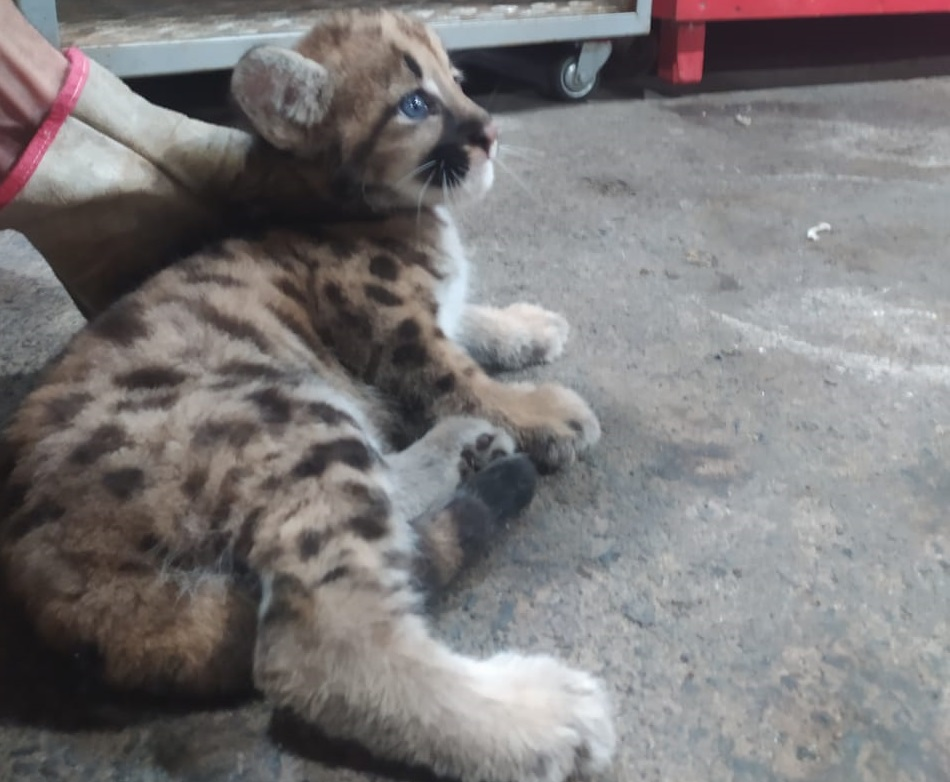OncaParda: (22, 11, 636, 765)
